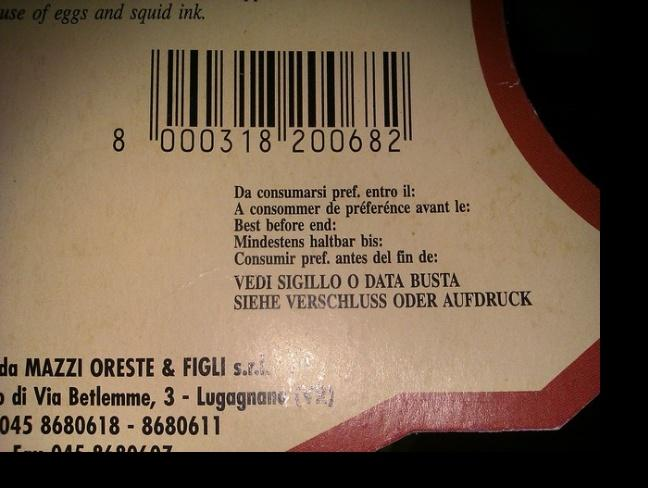Barcode: (98, 33, 435, 172)
